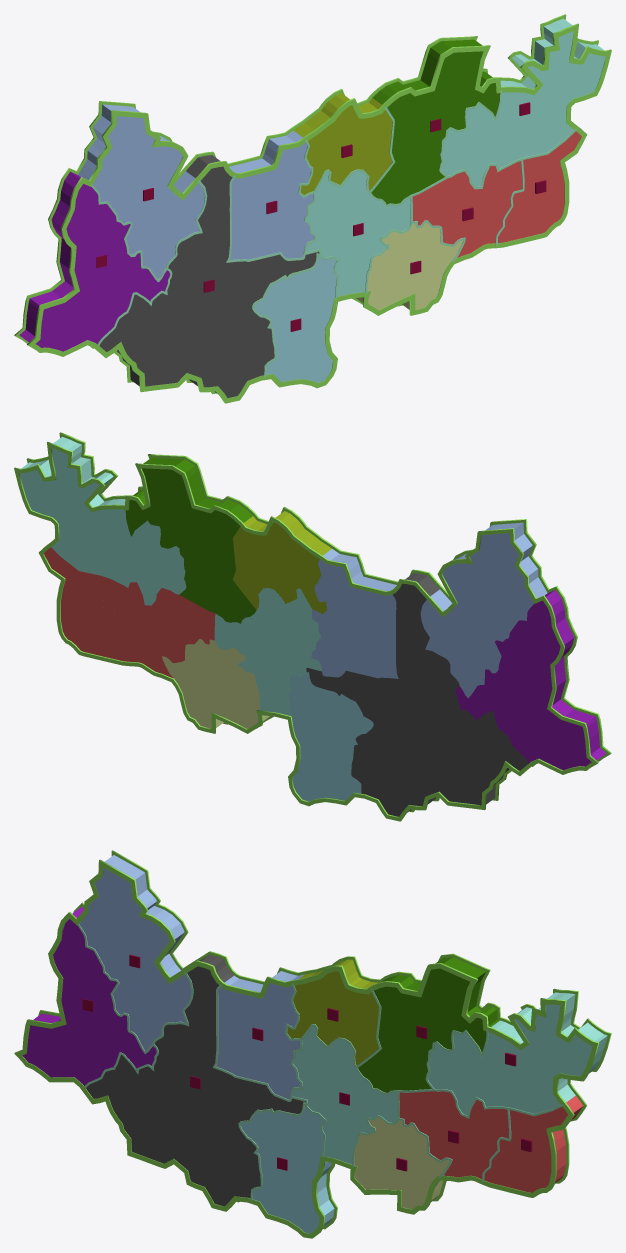
File: deqing.obj
3 views of the same model, one above another, from view 1: azimuth 30°, elevation 25°; view 2: azimuth 150°, elevation 25°; view 3: azimuth 330°, elevation 25° (orthographic).
Parts seen in each view (by area): view 1: wukang, deqing_top_border, xinshi, fatou, moganshan, zhongguan, buxi, qiyuan, xiazhuhu, xinan, deqing_Line, leidian (+10 smaller); view 2: wukang_bottom, fatou_bottom, xinshi_bottom, moganshan_bottom, china_bottom_border, zhongguan_bottom, buxi_bottom, qiyuan_bottom, xiazhuhu_bottom, xinan_bottom, luoshe_bottom, leidian_bottom (+2 smaller); view 3: wukang, deqing_top_border, xinshi, fatou, moganshan, zhongguan, buxi, qiyuan, xiazhuhu, xinan, deqing_Line, leidian (+10 smaller).
Boxes of the visible parts, x1,y1,x2,y2 form: wukang: (99, 166, 318, 397); deqing_top_border: (27, 23, 611, 403); xinshi: (441, 31, 605, 186); fatou: (36, 184, 169, 351); moganshan: (93, 116, 204, 278); zhongguan: (371, 51, 499, 204); buxi: (229, 142, 313, 259); qiyuan: (306, 171, 410, 296); xiazhuhu: (254, 256, 336, 382); xinan: (412, 161, 522, 257); deqing_Line: (91, 90, 577, 377); leidian: (367, 222, 462, 310); wukang_bottom: (306, 573, 528, 816); fatou_bottom: (455, 590, 606, 770); xinshi_bottom: (19, 437, 186, 605); moganshan_bottom: (420, 522, 547, 697); china_bottom_border: (14, 442, 598, 821); zhongguan_bottom: (125, 457, 256, 623); buxi_bottom: (311, 549, 398, 678); qiyuan_bottom: (214, 588, 321, 715); xiazhuhu_bottom: (288, 672, 373, 801); xinan_bottom: (103, 577, 215, 677); luoshe_bottom: (232, 511, 331, 613); leidian_bottom: (162, 639, 269, 728); wukang: (86, 966, 305, 1206); deqing_top_border: (14, 859, 599, 1238); xinshi: (428, 1004, 592, 1115); fatou: (22, 919, 156, 1086); moganshan: (79, 868, 191, 1050); zhongguan: (358, 968, 486, 1092); buxi: (216, 983, 300, 1099); qiyuan: (292, 1026, 397, 1164); xiazhuhu: (240, 1106, 323, 1233); xinan: (399, 1091, 508, 1179); deqing_Line: (78, 923, 563, 1201); leidian: (354, 1117, 449, 1209).
Size of the model in its own units: 85.89 by 45.97 by 3.71.
